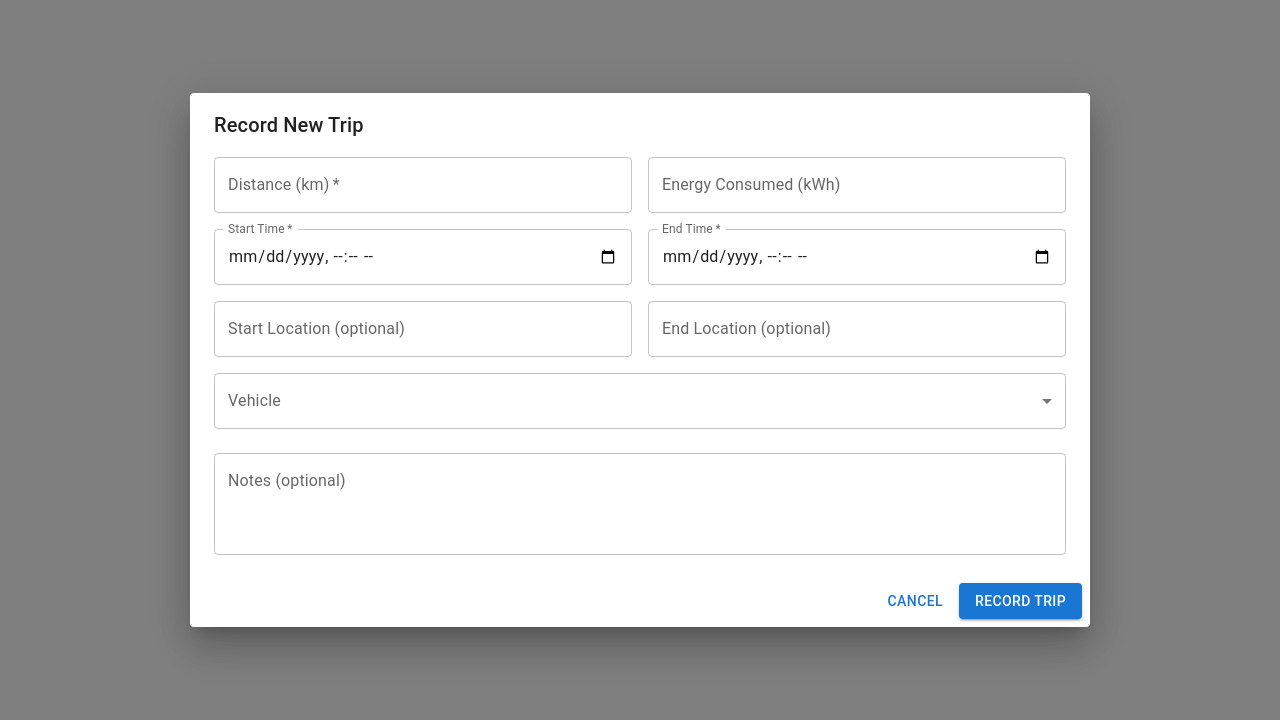
Scenario: RecordTripModal › requires a vehicle to be selected before submitting
In the number field labelled "Distance (km) *": (423, 185) [214, 157, 632, 213], type "12.5"
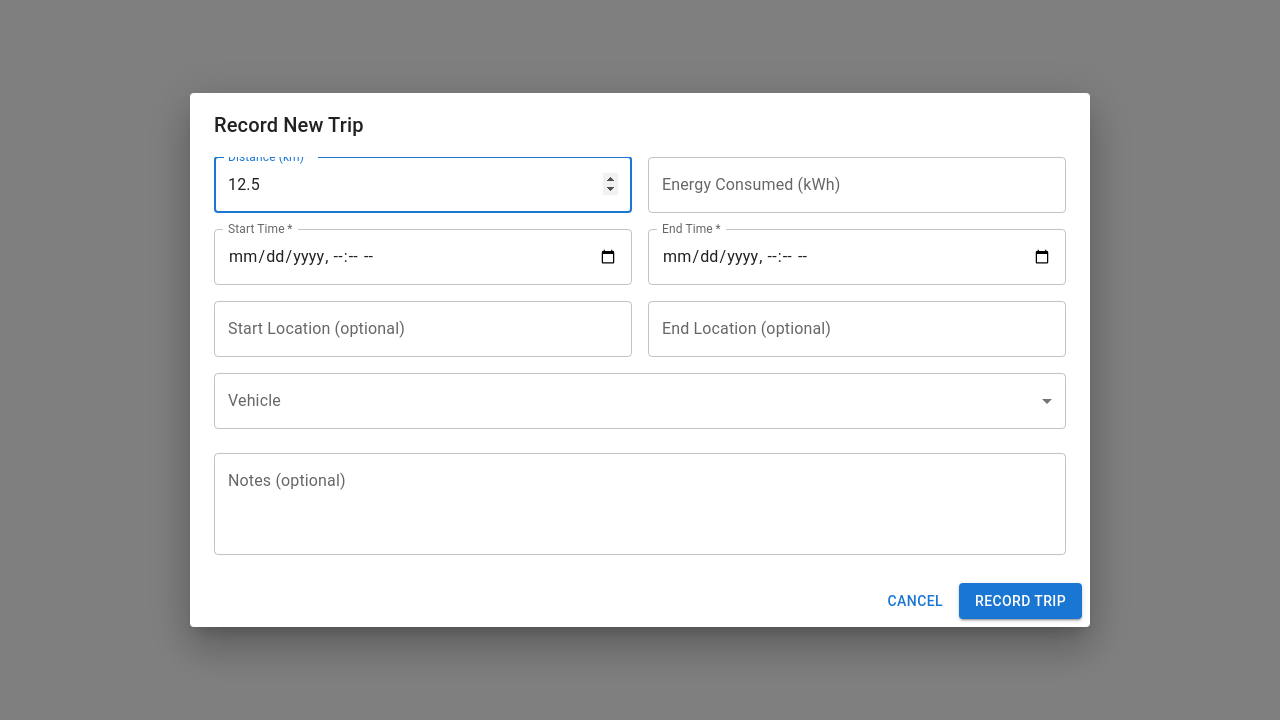
In the field labelled "Start Time *": (423, 257) [214, 229, 632, 285], type "2000-11-11T04:11"
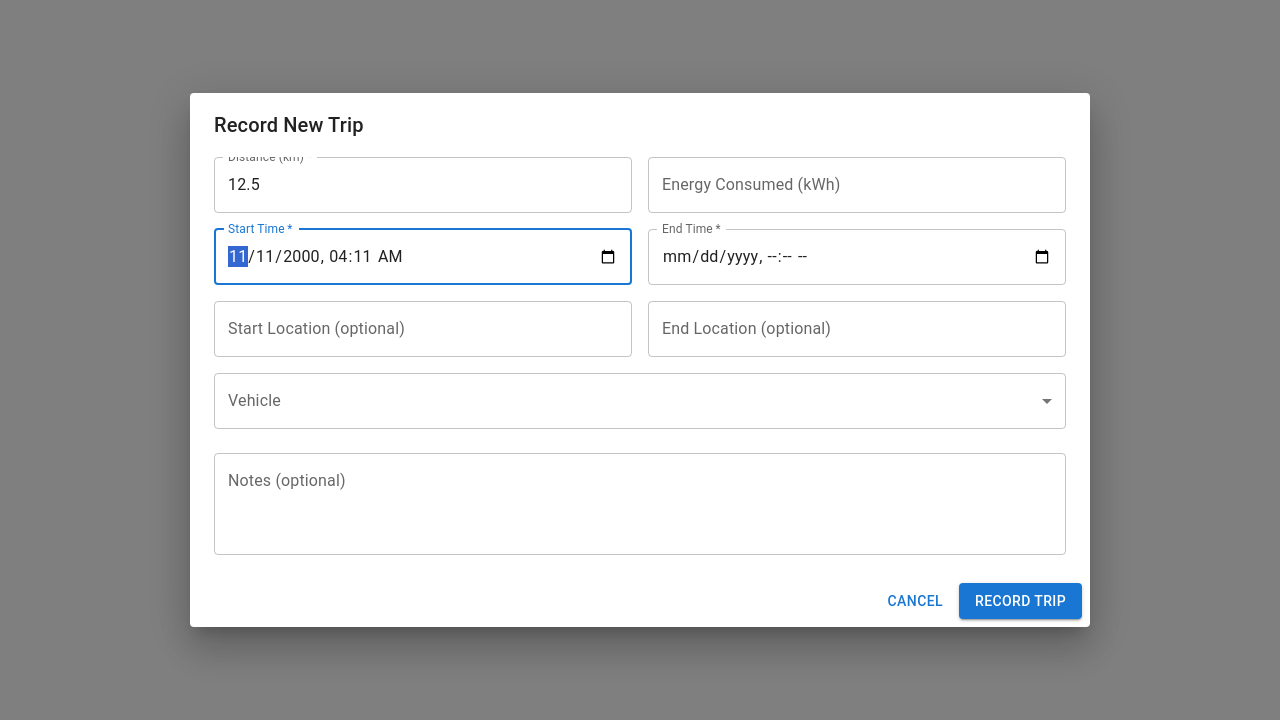
In the field labelled "End Time *": (857, 257) [648, 229, 1066, 285], type "2000-11-11T05:11"
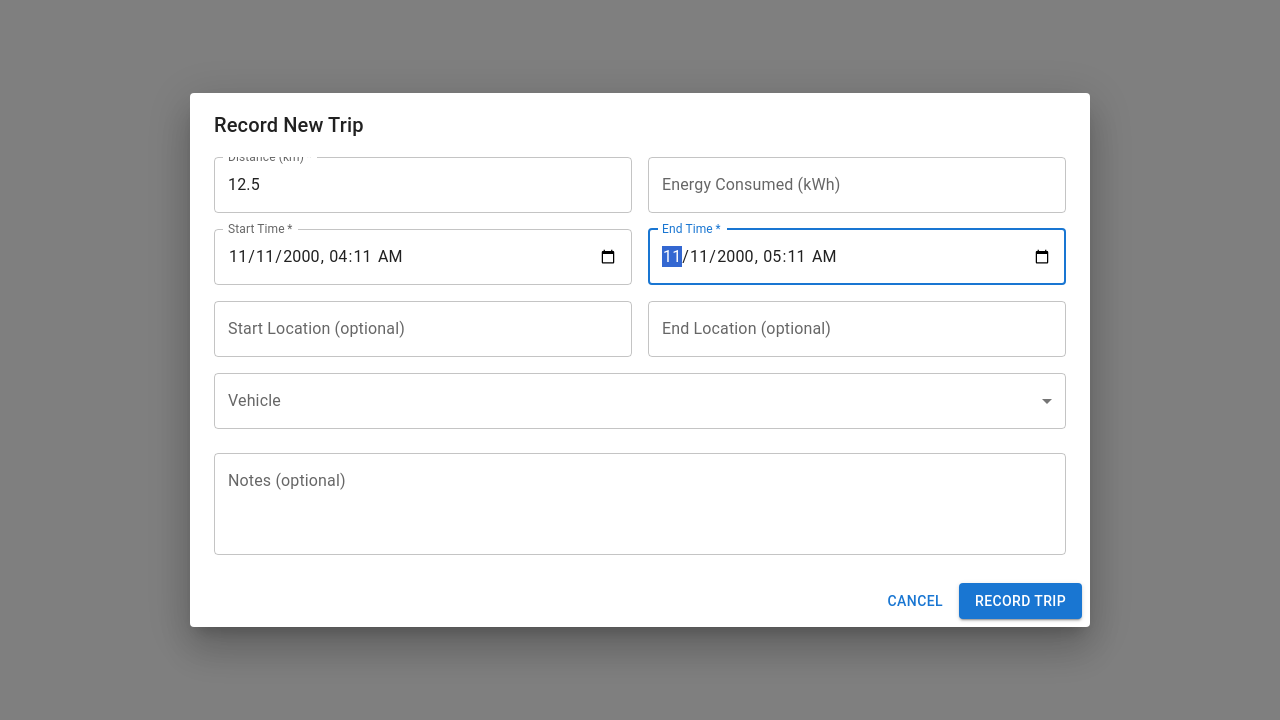
Click the button "Record Trip": click(1020, 601) [959, 583, 1082, 619]
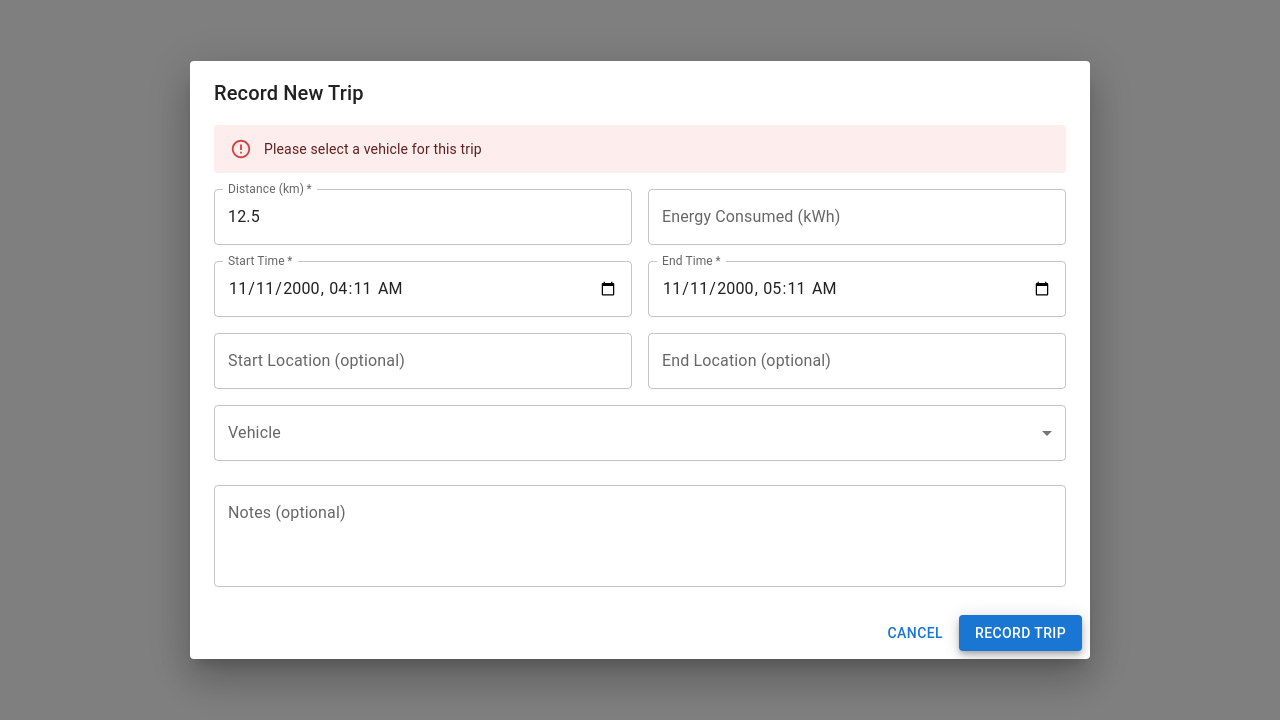
Now the text "Please select a vehicle for this trip" is shown, box [264, 141, 482, 157]
